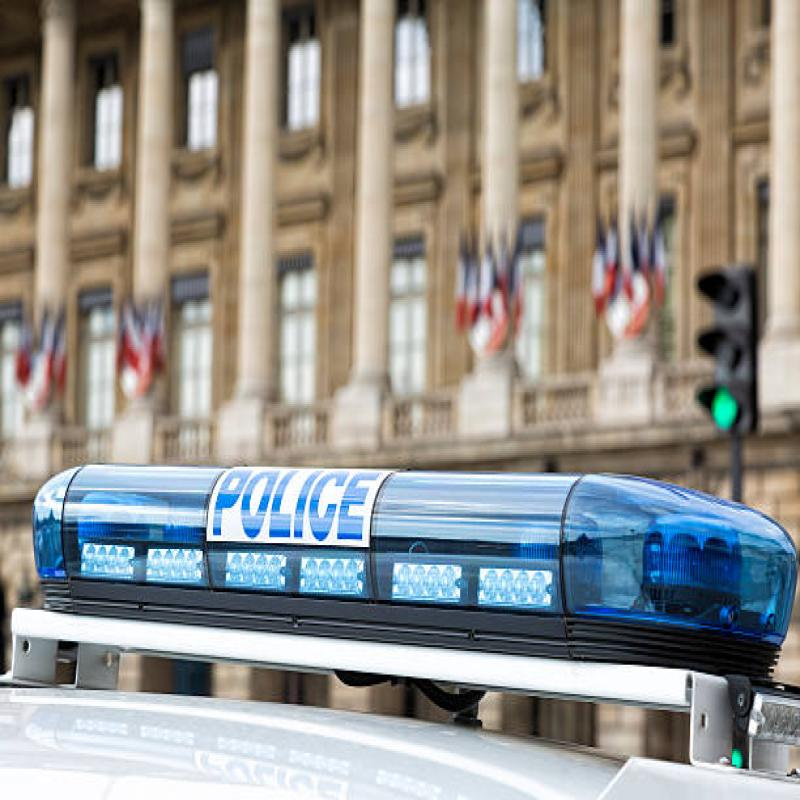AmbulanceSiren: (21, 435, 800, 716)
